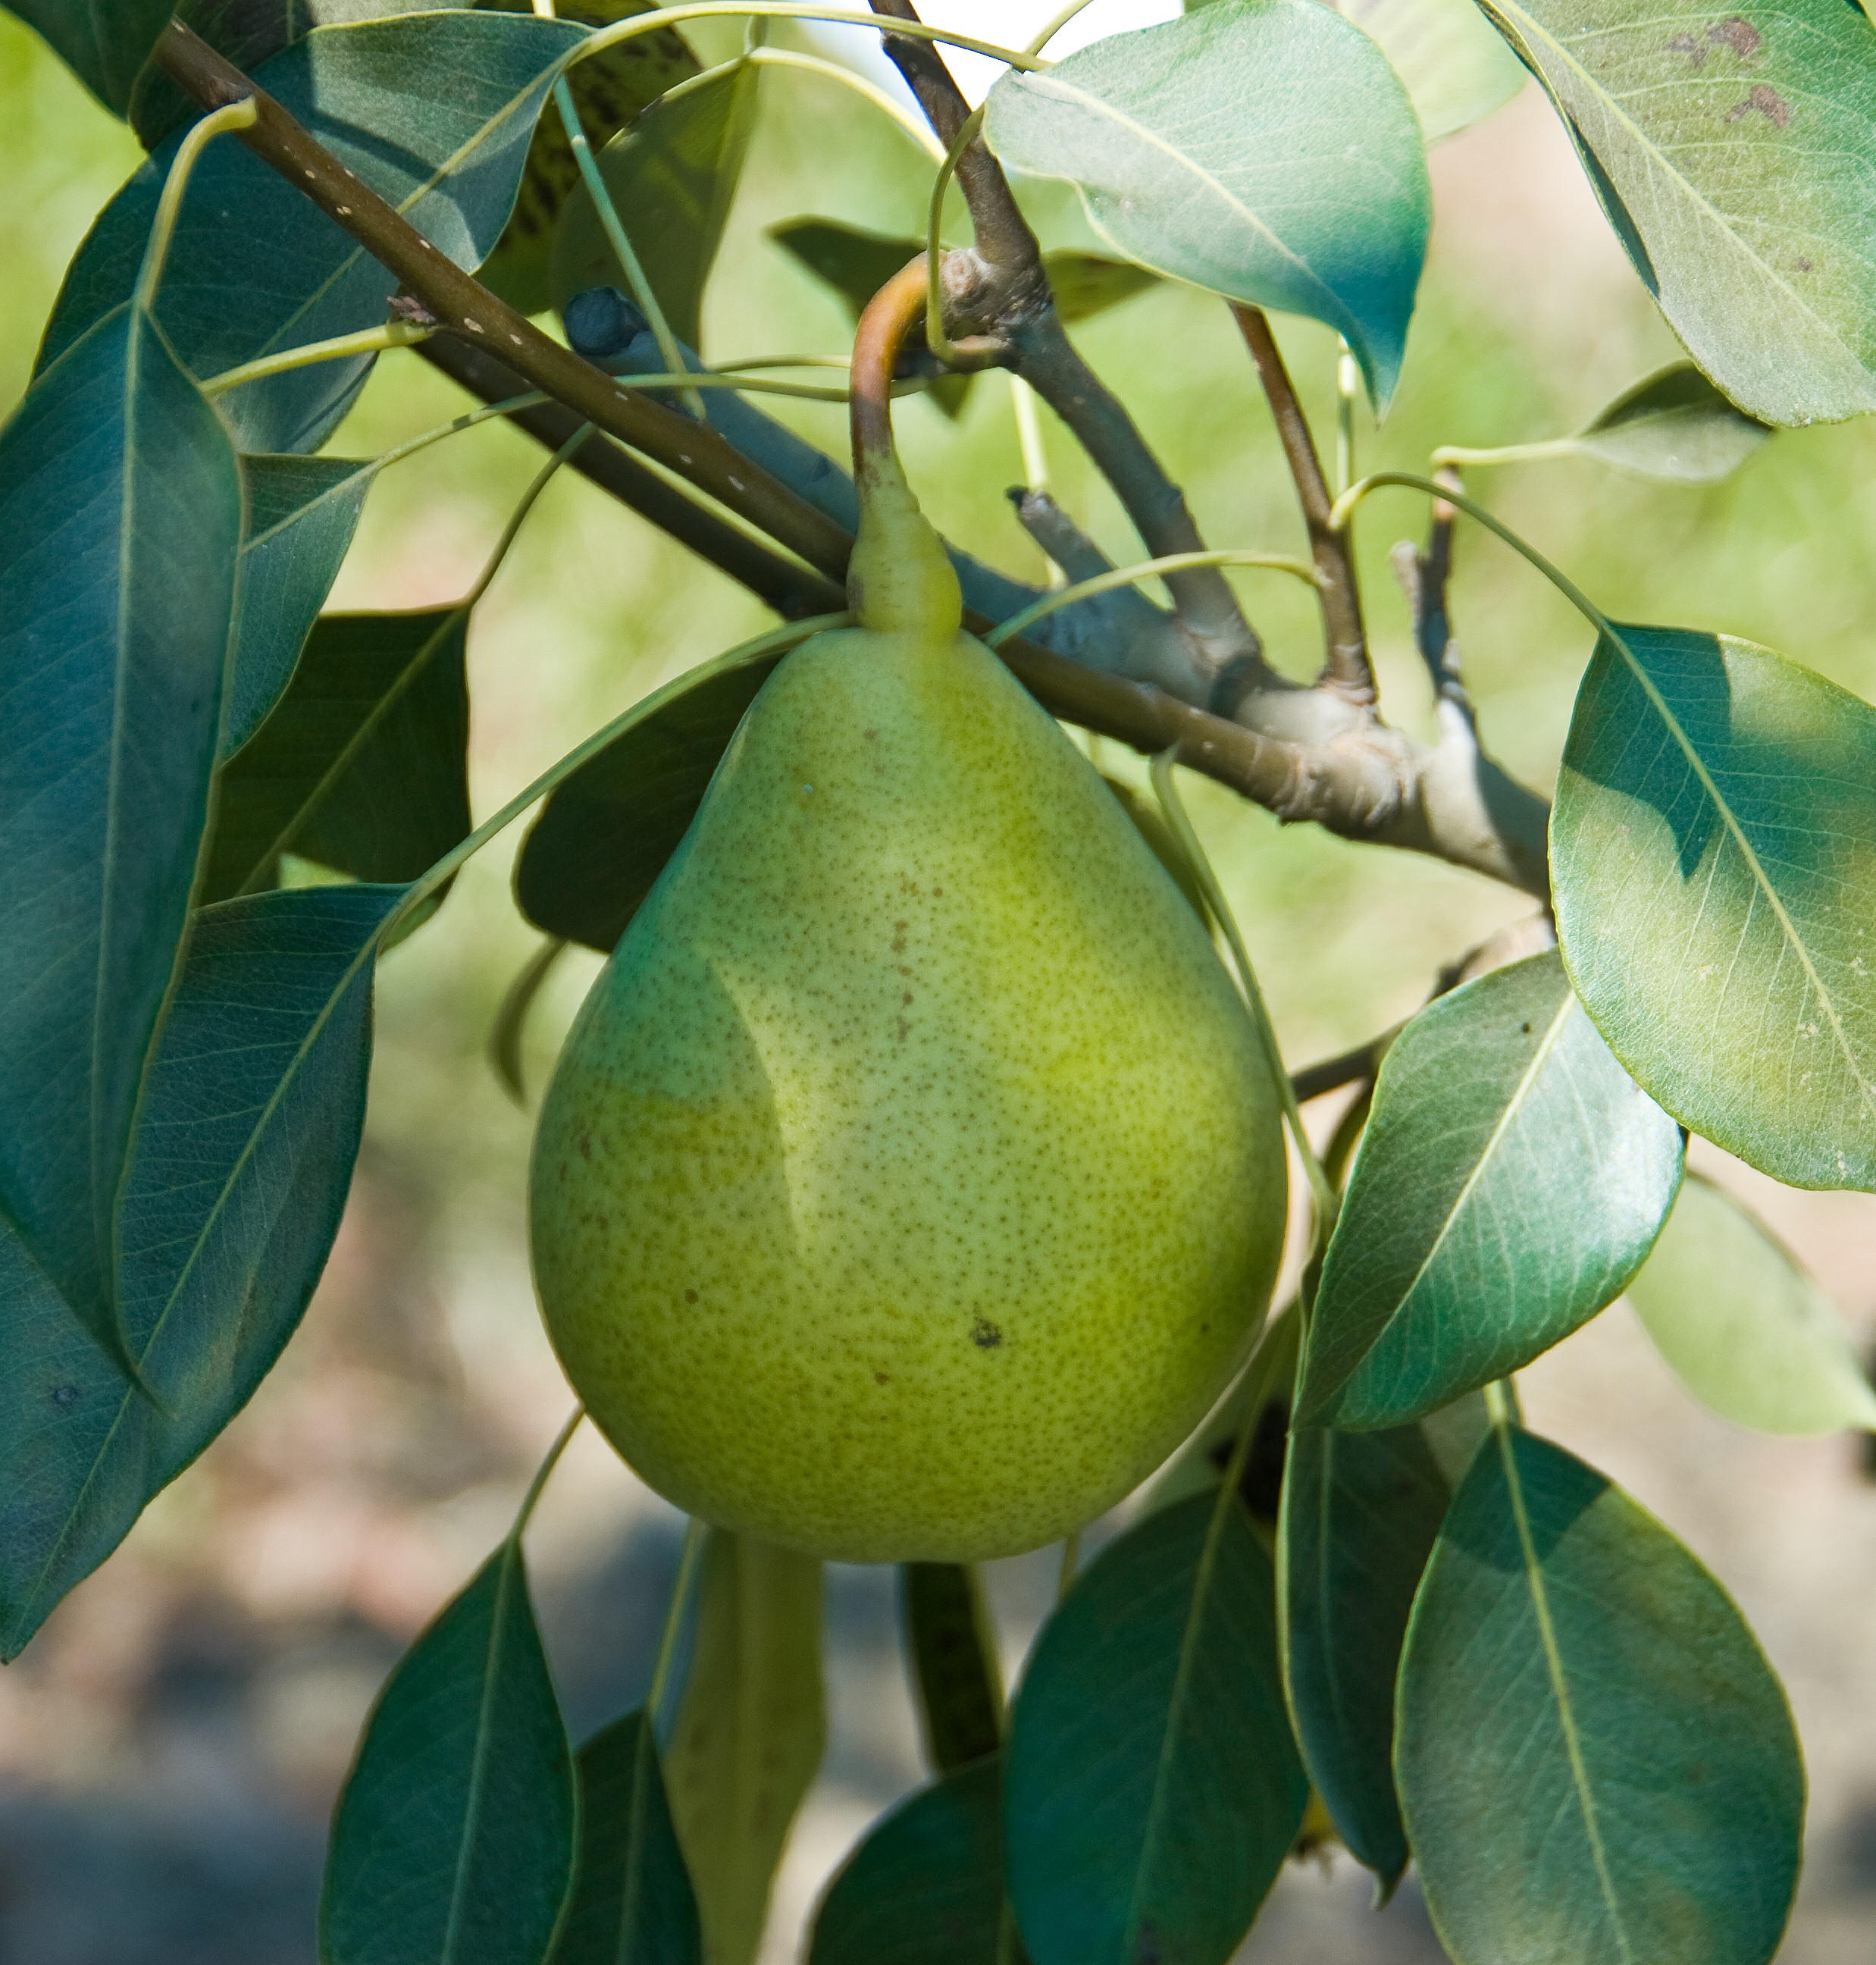pear: (533, 639, 1297, 1563)
